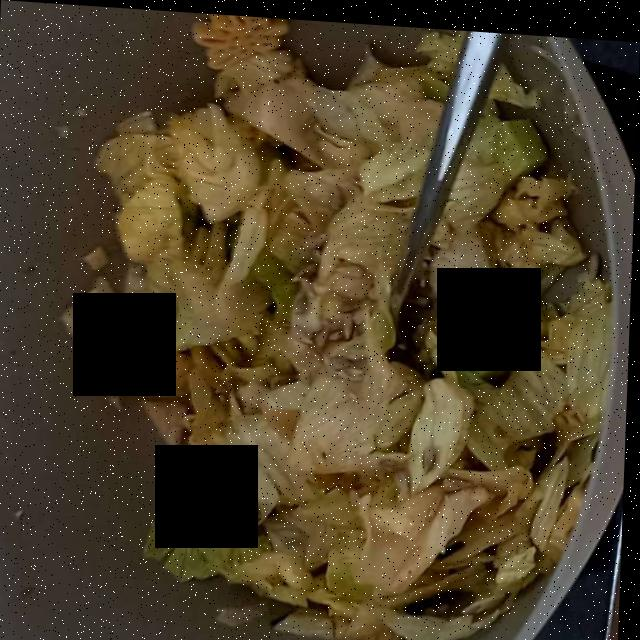pasta: (190, 12, 285, 67)
salad-leaf-salad-green: (72, 29, 613, 637)
